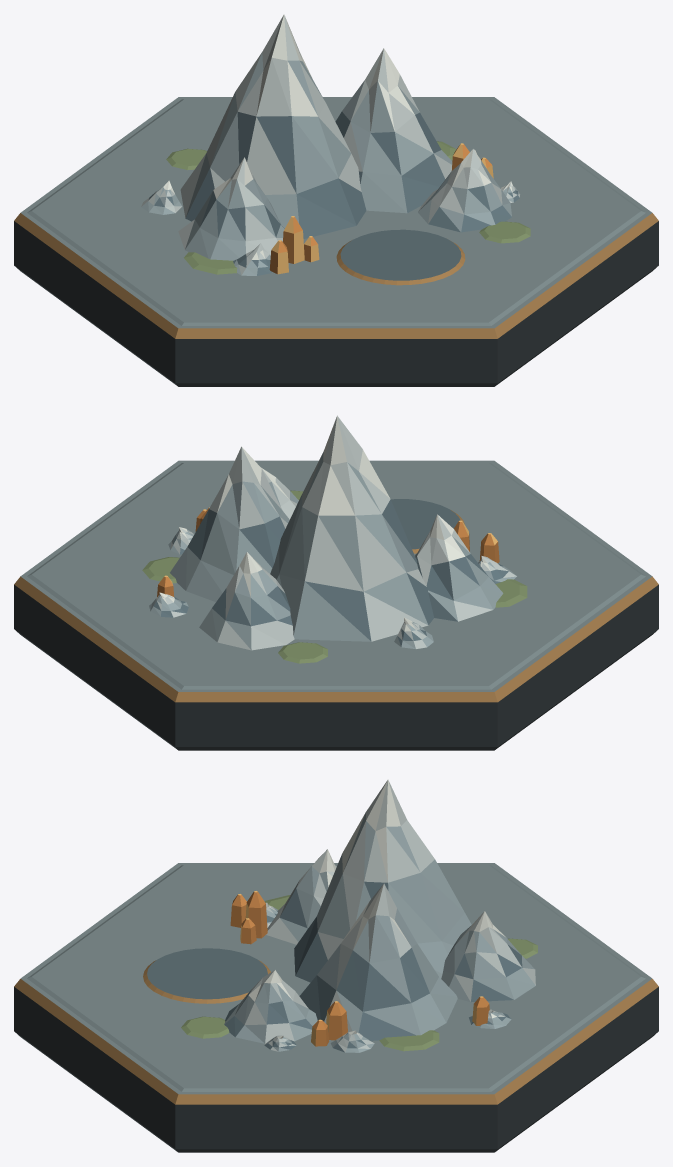
File: mountain-tile-v001.fbx
3 views of the same model, one above another, from view 1: azimuth 30°, elevation 25°; view 2: azimuth 150°, elevation 25°; view 3: azimuth 270°, elevation 25° (orthographic).
Parts seen in each view (by area): view 1: Mountain_Surface, Mountain_Base, Mountain_MainSpire, Mountain_EastSpire, Mountain_WestButtress, Mountain_NumberRecess, Mountain_FrontBoulder, Mountain_Moss_03, Mountain_Scree_00, Mountain_Scree_03, Mountain_Copper_00, Mountain_Moss_00 (+1 smaller); view 2: Mountain_Surface, Mountain_Base, Mountain_MainSpire, Mountain_EastSpire, Mountain_RearButtress, Mountain_WestButtress, Mountain_NumberRecess, Mountain_Moss_02, Mountain_Scree_03, Mountain_Scree_02, Mountain_Moss_00, Mountain_FrontBoulder (+2 smaller); view 3: Mountain_Surface, Mountain_Base, Mountain_MainSpire, Mountain_EastSpire, Mountain_RearButtress, Mountain_NumberRecess, Mountain_FrontBoulder, Mountain_WestButtress, Mountain_Moss_03, Mountain_Moss_01, Mountain_Copper_00, Mountain_Copper_03 (+1 smaller).
Part boxes in pixels (x1,y1,x2,y2): Mountain_Surface: (27, 99, 645, 325); Mountain_Base: (14, 97, 658, 386); Mountain_MainSpire: (180, 14, 366, 238); Mountain_EastSpire: (335, 48, 452, 213); Mountain_WestButtress: (178, 157, 284, 260); Mountain_NumberRecess: (336, 229, 465, 285); Mountain_FrontBoulder: (418, 149, 511, 232); Mountain_Moss_03: (479, 221, 530, 243); Mountain_Scree_00: (233, 243, 271, 275); Mountain_Scree_03: (141, 180, 182, 214); Mountain_Copper_00: (283, 216, 304, 263); Mountain_Moss_00: (184, 252, 237, 274); Mountain_Surface: (27, 463, 645, 689); Mountain_Base: (14, 460, 658, 750); Mountain_MainSpire: (270, 415, 433, 641); Mountain_EastSpire: (170, 446, 289, 601); Mountain_RearButtress: (199, 552, 294, 650); Mountain_WestButtress: (415, 514, 503, 621); Mountain_NumberRecess: (391, 499, 464, 553); Mountain_Moss_02: (278, 642, 327, 663); Mountain_Scree_03: (394, 617, 433, 648); Mountain_Scree_02: (149, 592, 188, 617); Mountain_Moss_00: (495, 579, 527, 607); Mountain_FrontBoulder: (261, 468, 298, 519); Mountain_Surface: (27, 865, 645, 1091); Mountain_Base: (14, 863, 658, 1152); Mountain_MainSpire: (294, 779, 471, 982); Mountain_EastSpire: (299, 883, 457, 1040); Mountain_RearButtress: (441, 911, 535, 1002); Mountain_NumberRecess: (143, 948, 270, 1003); Mountain_FrontBoulder: (224, 970, 317, 1043); Mountain_WestButtress: (266, 849, 336, 944); Mountain_Moss_03: (181, 1016, 229, 1038); Mountain_Moss_01: (379, 1030, 439, 1051); Mountain_Copper_00: (245, 891, 267, 938); Mountain_Copper_03: (326, 1001, 347, 1040).
Size of the model in its own units: 0.0693 by 0.0335 by 0.08.
